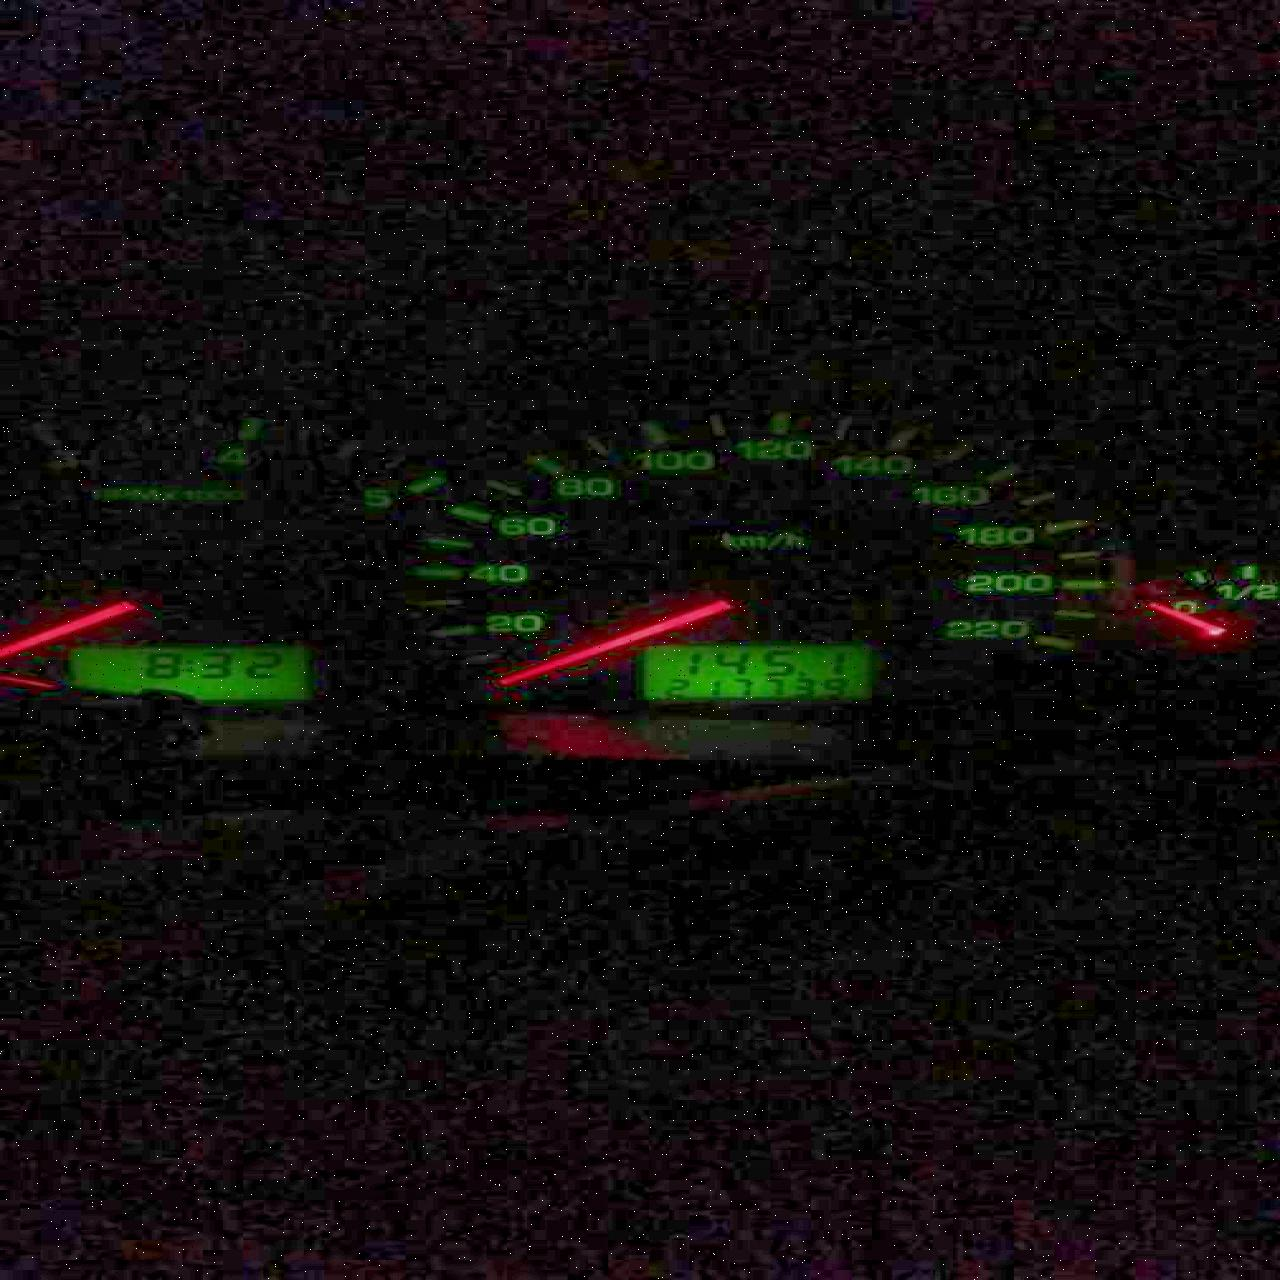-: (794, 670, 809, 676)
1: (829, 651, 844, 675), (685, 651, 700, 675), (707, 679, 720, 696)
2: (661, 678, 687, 697)
3: (791, 676, 811, 696)
4: (712, 652, 745, 674)
5: (761, 649, 794, 675)
7: (730, 676, 750, 695), (763, 678, 781, 695)
9: (822, 678, 846, 696)
odometer: (636, 642, 872, 700)
